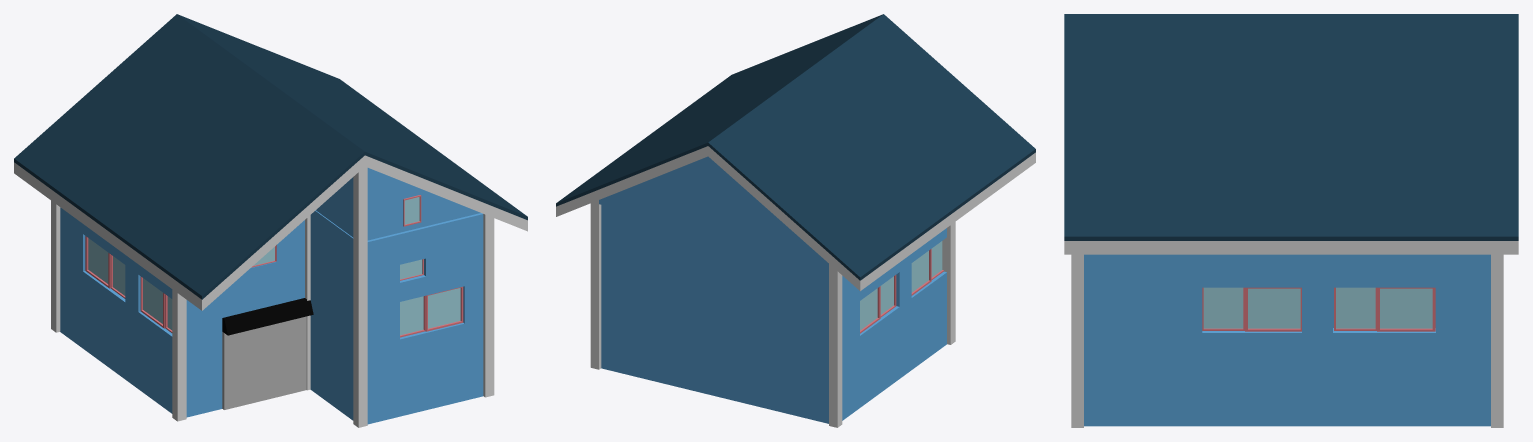
The model's file is SmallHouse1.fbx.
3 views of the same model, side by side, from view 1: azimuth 30°, elevation 25°; view 2: azimuth 150°, elevation 25°; view 3: azimuth 270°, elevation 25° (orthographic). The views are drawn at different scales.
Visible parts, largest first — view 1: Cube.006, Cube, Cube.007, Cube.004, Cube.008, Cube.001, Cube.010, Cube.002, Cube.009, Cube.016, Cube.013, Cube.005 (+2 smaller); view 2: Cube.006, Cube, Cube.007, Cube.002, Cube.003, Cube.001, Cube.016, Cube.013, Cube.015; view 3: Cube.006, Cube, Cube.016, Cube.013, Cube.003, Cube.008, Cube.014, Cube.015.
Boxes of the visible parts, x1,y1,x2,y2 form: Cube.006: (14, 14, 527, 310); Cube: (60, 207, 483, 424); Cube.007: (316, 168, 480, 240); Cube.004: (353, 166, 367, 427); Cube.008: (483, 214, 494, 397); Cube.001: (172, 289, 186, 421); Cube.010: (425, 286, 463, 331); Cube.002: (51, 200, 60, 332); Cube.009: (400, 296, 425, 337); Cube.016: (85, 236, 110, 288); Cube.013: (140, 276, 165, 328); Cube.005: (305, 215, 310, 390); Cube.006: (556, 14, 1035, 291); Cube: (601, 205, 946, 423); Cube.007: (599, 156, 823, 258); Cube.002: (829, 264, 842, 427); Cube.003: (590, 200, 601, 369); Cube.001: (942, 222, 955, 344); Cube.016: (860, 286, 880, 333); Cube.013: (911, 249, 931, 295); Cube.015: (880, 275, 896, 317); Cube.006: (1064, 14, 1518, 254); Cube: (1084, 254, 1490, 426); Cube.016: (1377, 287, 1435, 331); Cube.013: (1245, 287, 1301, 331); Cube.003: (1491, 254, 1503, 427); Cube.008: (1071, 254, 1083, 427); Cube.014: (1202, 287, 1244, 330); Cube.015: (1334, 287, 1376, 330).
Bounding box in the file's own units: 2025 × 1653 × 2025.
